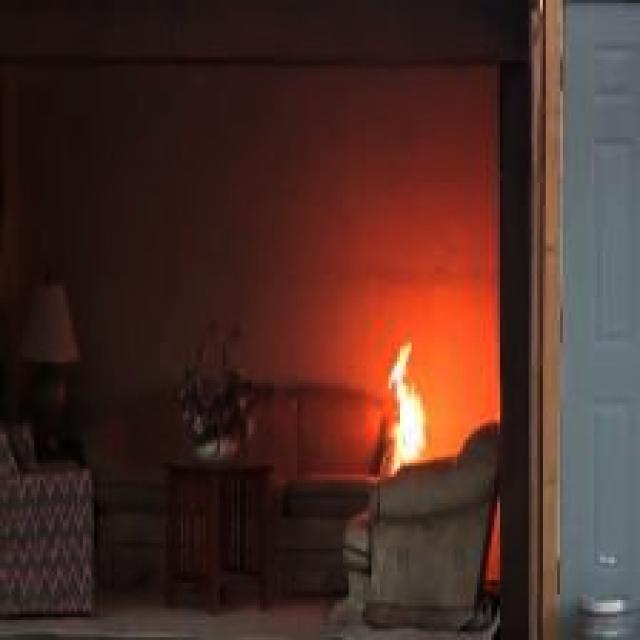fire: (377, 333, 429, 480)
